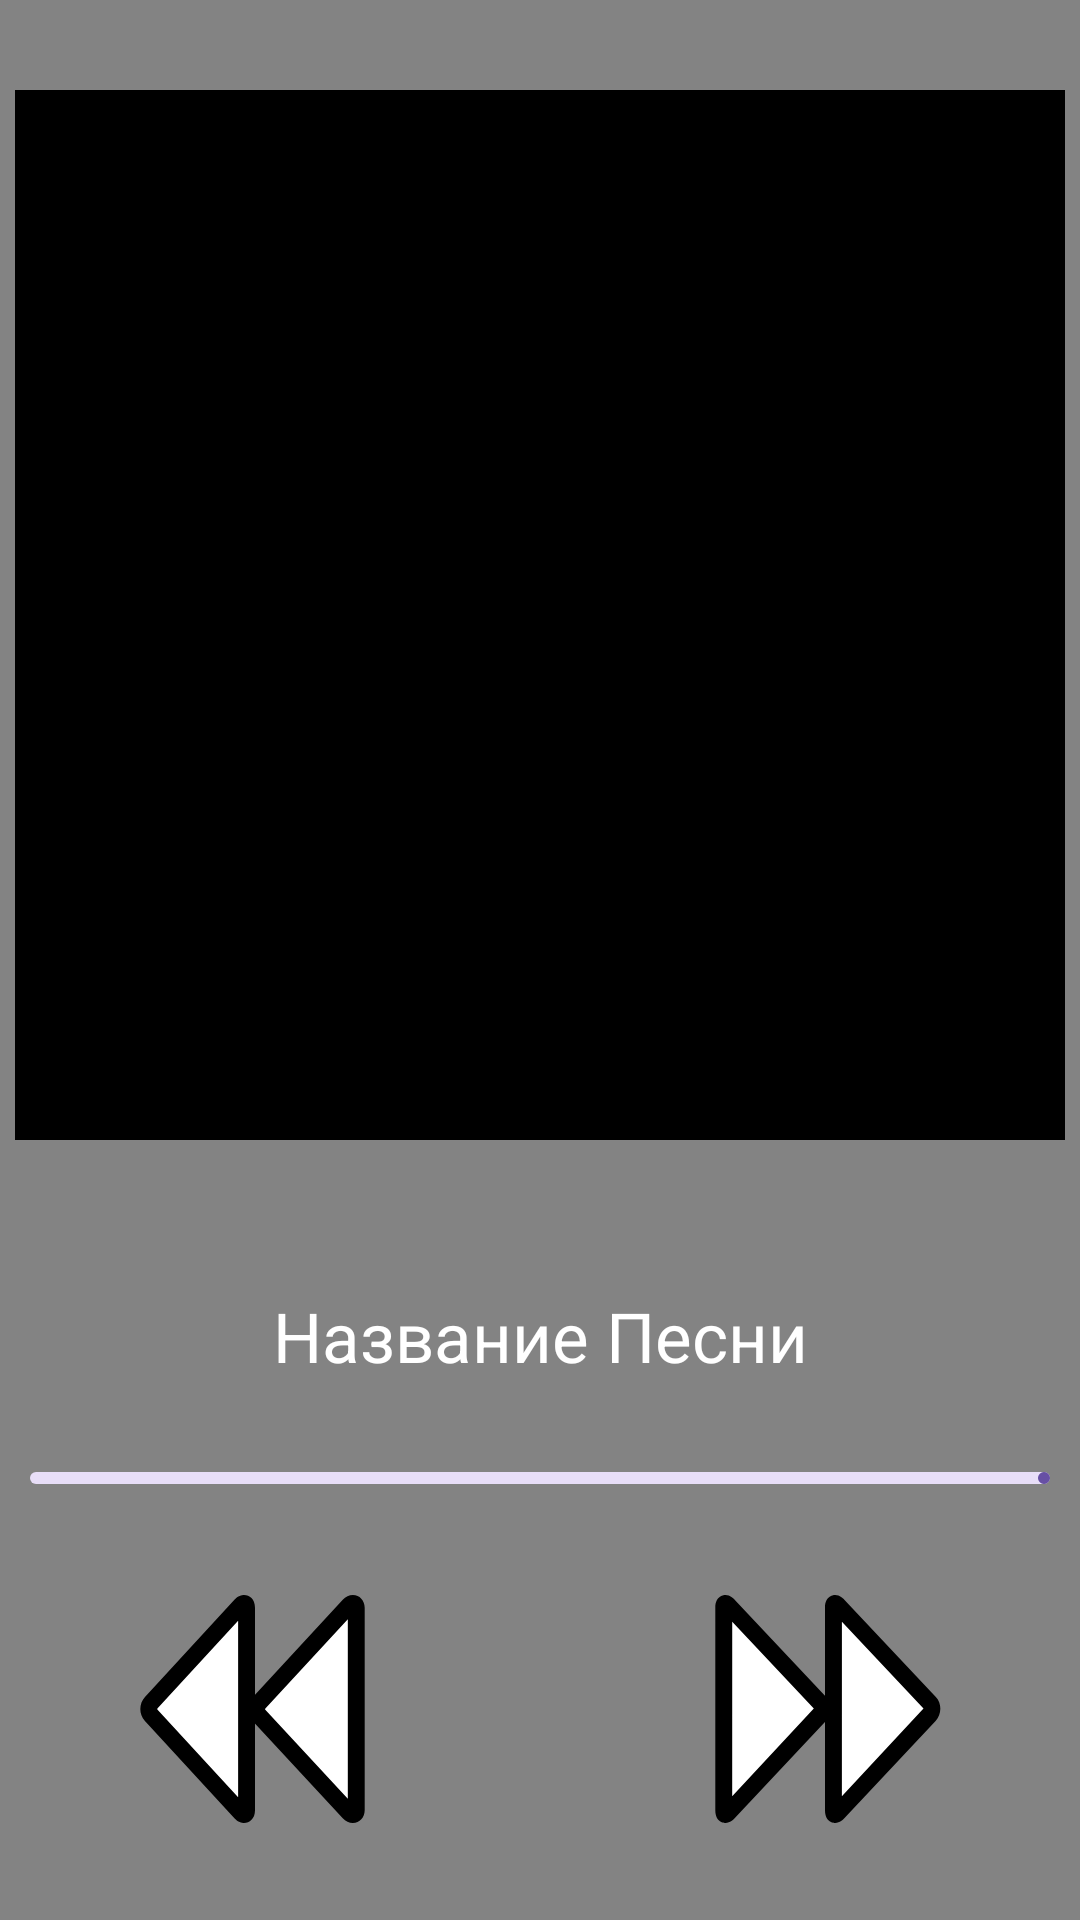

Where to tap for icons on this 1080w x 1920h app screen, as (x=x, y=y):
back: (x=252, y=1709)
next: (x=828, y=1709)
